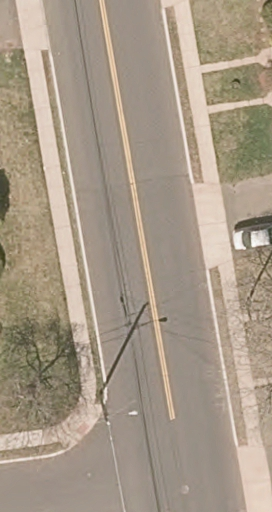DT: (94, 388, 139, 428)
